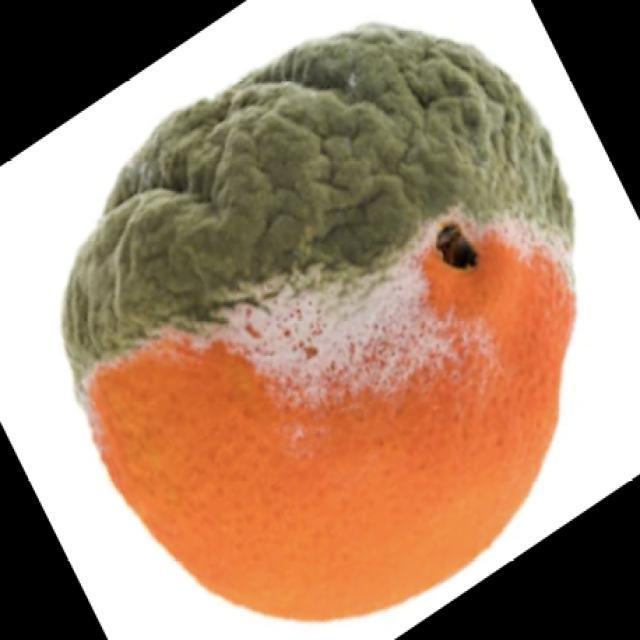sangat-busuk: (64, 28, 575, 618), (64, 25, 573, 396)
